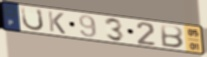2: (135, 21, 159, 47)
3: (104, 18, 126, 42)
9: (78, 14, 98, 39)
B: (160, 23, 185, 49)
K: (46, 10, 67, 35)
U: (20, 6, 46, 32)
